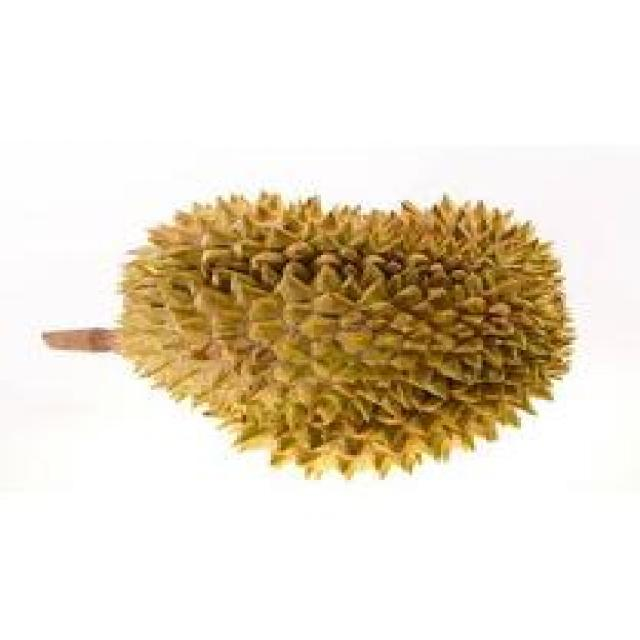fruit: (74, 158, 446, 550)
